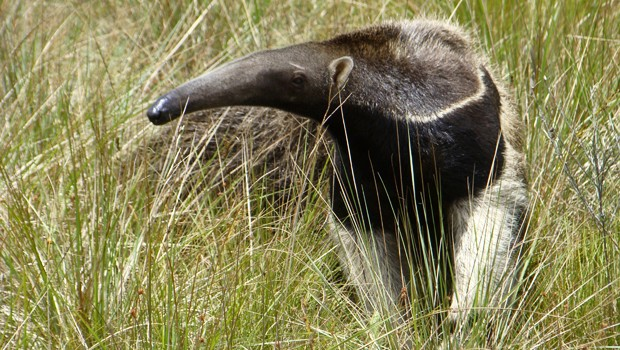TamanduaBandeira: (140, 17, 528, 331)
